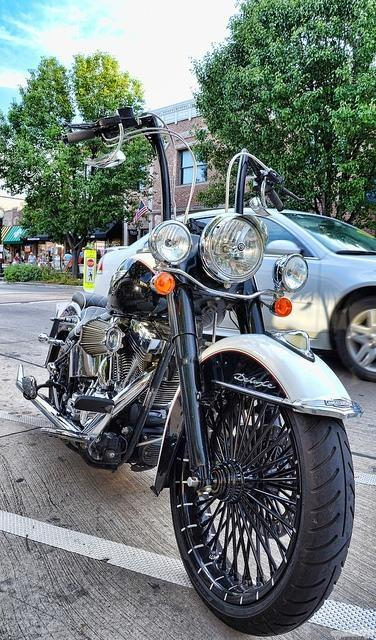car: (187, 204, 376, 383)
motorcycle: (25, 107, 356, 630)
